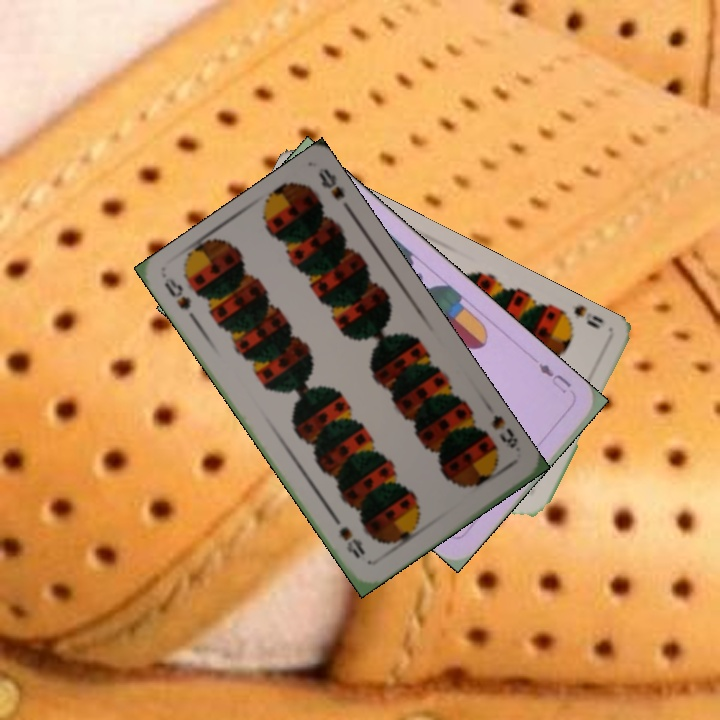EU: (530, 355, 575, 396)
S8: (160, 274, 201, 327), (487, 410, 521, 451)
S9: (555, 304, 603, 332)
